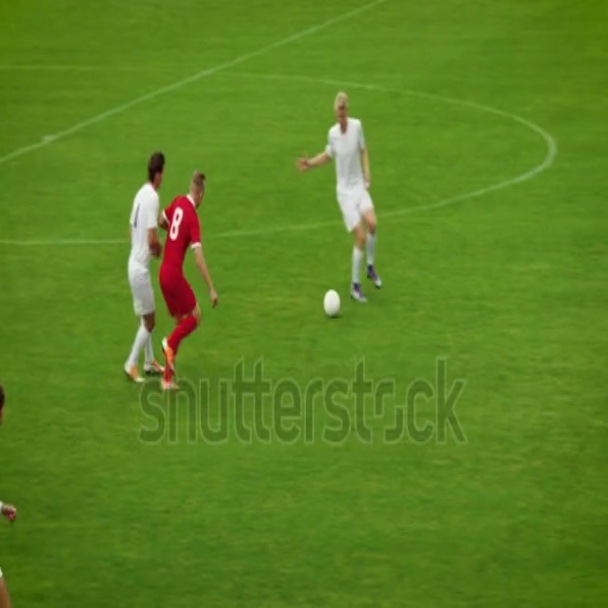ball: (325, 287, 343, 323)
